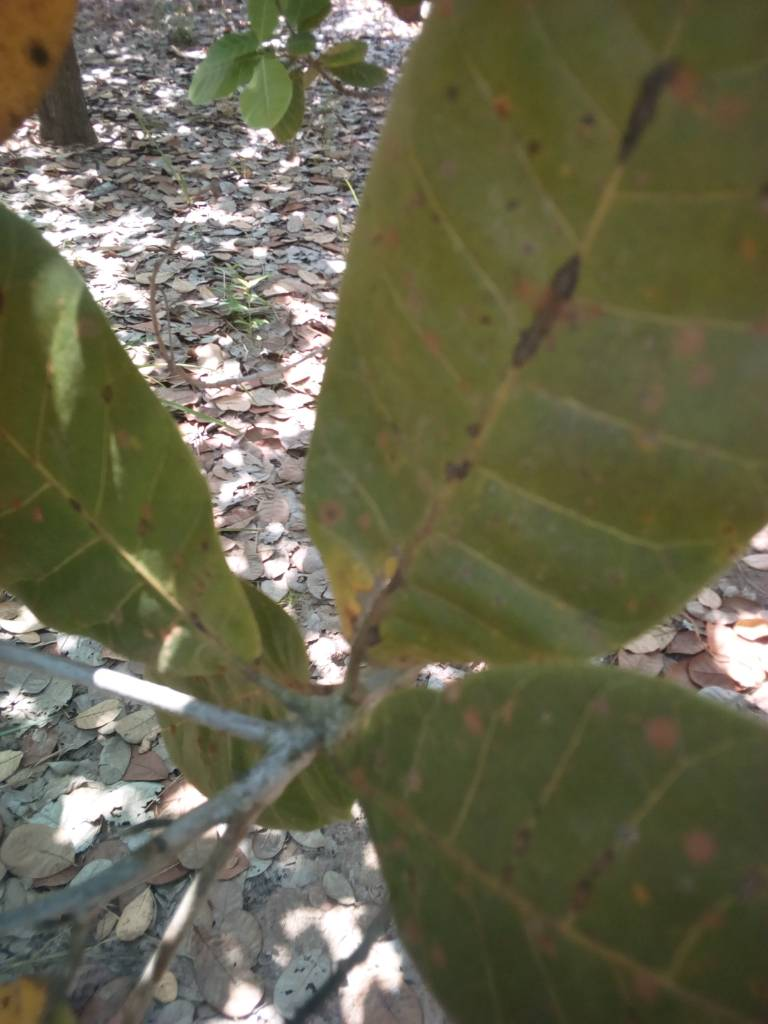Rouille: (332, 660, 768, 1024)
